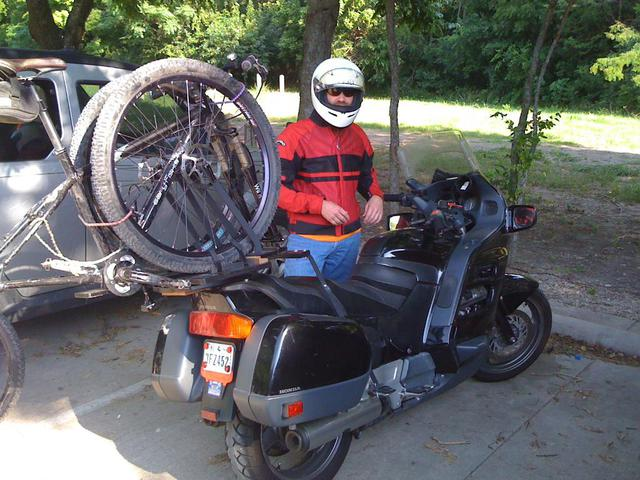helmet: (312, 63, 365, 130)
